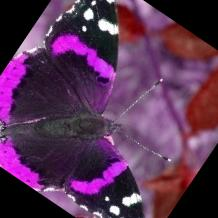butterfly: (0, 0, 145, 218)
